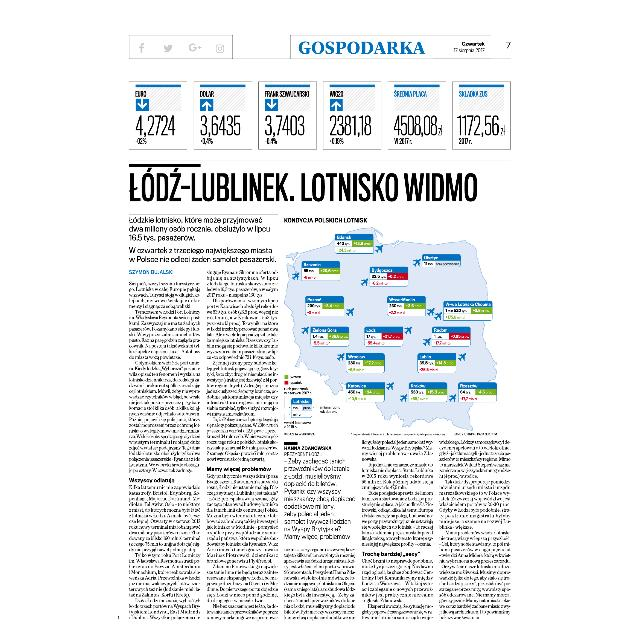article: (126, 161, 514, 623)
